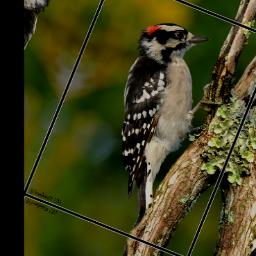Woodpecker: (69, 12, 240, 240)
